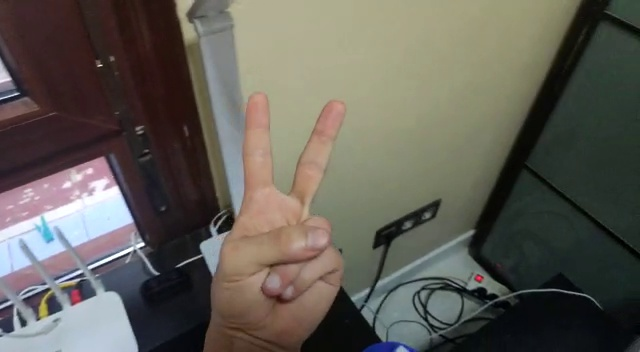Peace: (204, 85, 347, 352)
